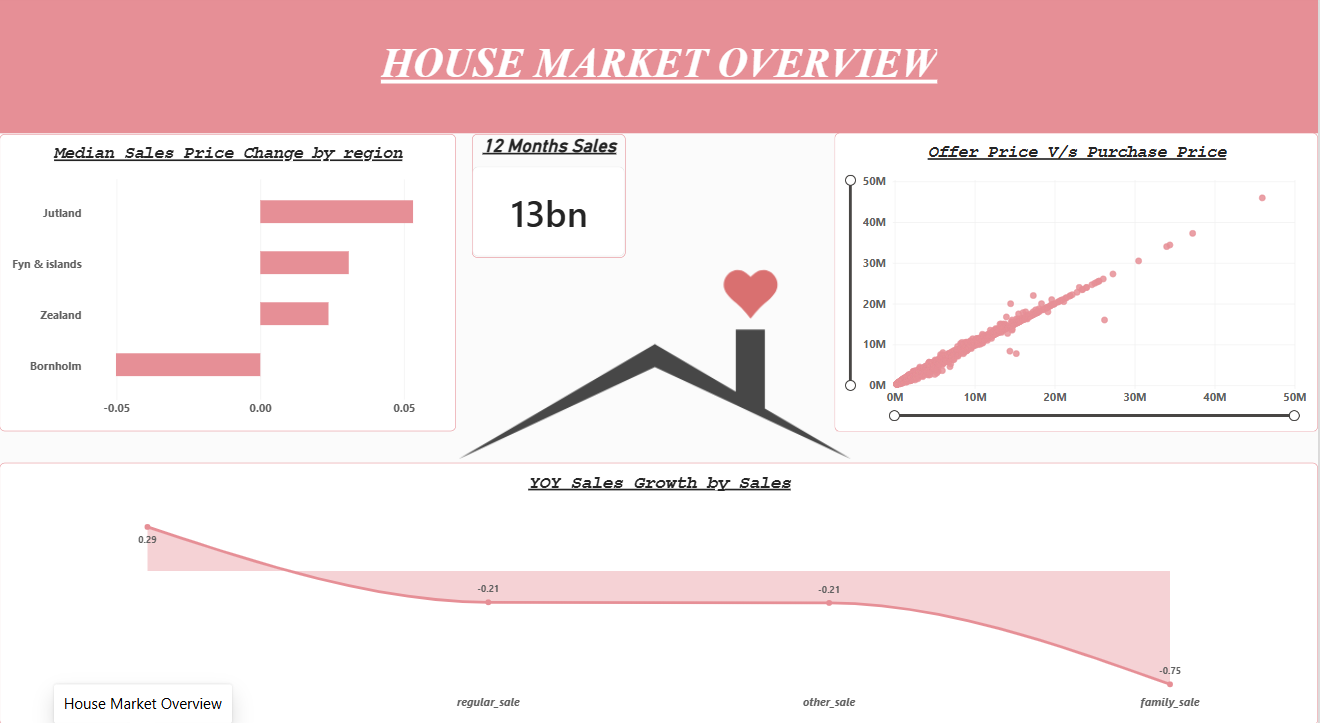

What the dashboard file says about the page in this screenshot:
{"tool":"powerbi","page":{"name":"House Market Overview","canvas":[1920,1080],"ordinal":0},"visuals":[{"type":"shape","box":[10.3,0,1910.1,201.7],"z":0},{"type":"lineChart","title":"YOY Sales Growth by Sales","fields":{"Category":["Housing.sales_type"],"Y":["Housing.YOY_Sales"]},"box":[10.9,678.6,1909.2,380],"z":1000},{"type":"scatterChart","title":"Offer Price V/s Purchase Price","fields":{"X":["Housing.Offer_price"],"Y":["Housing.purchase_price"]},"box":[1219.7,200.9,700.3,432.5],"z":2000},{"type":"barChart","fields":{"Category":["Housing.region"],"Y":["Housing.Median Sales Price Change"]},"box":[10.9,202.7,660.5,430.7],"z":3000},{"type":"cardVisual","title":"12 Months Sales","fields":{"Data":["Housing.Last 12 month Sales"]},"box":[694.9,202.7,222.6,179.2],"z":4000}]}

Visuals, with their boxes on the page's 1920x1080 design canvas (x1, y1, x2, y2). These are canvas units, not pixel positions in the 1320x723 screenshot, which may show the page scaled, cropped or inside an application window:
shape: {"left": 10, "top": 0, "right": 1920, "bottom": 202}
"YOY Sales Growth by Sales" lineChart: {"left": 11, "top": 679, "right": 1920, "bottom": 1059}
"Offer Price V/s Purchase Price" scatterChart: {"left": 1220, "top": 201, "right": 1920, "bottom": 633}
barChart - Housing.region x Housing.Median Sales Price Change: {"left": 11, "top": 203, "right": 671, "bottom": 633}
"12 Months Sales" cardVisual: {"left": 695, "top": 203, "right": 918, "bottom": 382}
